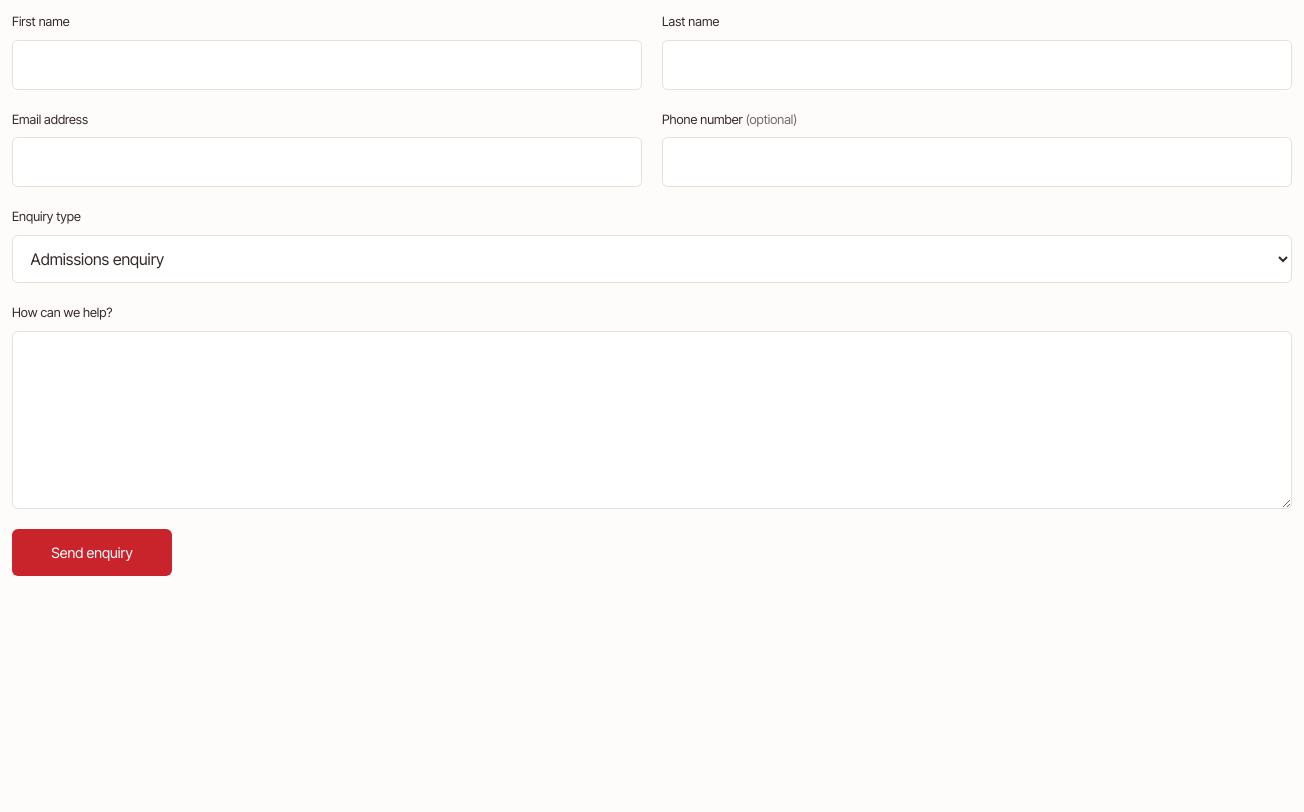
it: ContactForm › submits to the public API and displays the enquiry reference
The image size is (1304, 812).
Type "Temitope" into the field with id "contact-first-name".
click(327, 65); type("Temitope")  # box [12, 40, 642, 90]
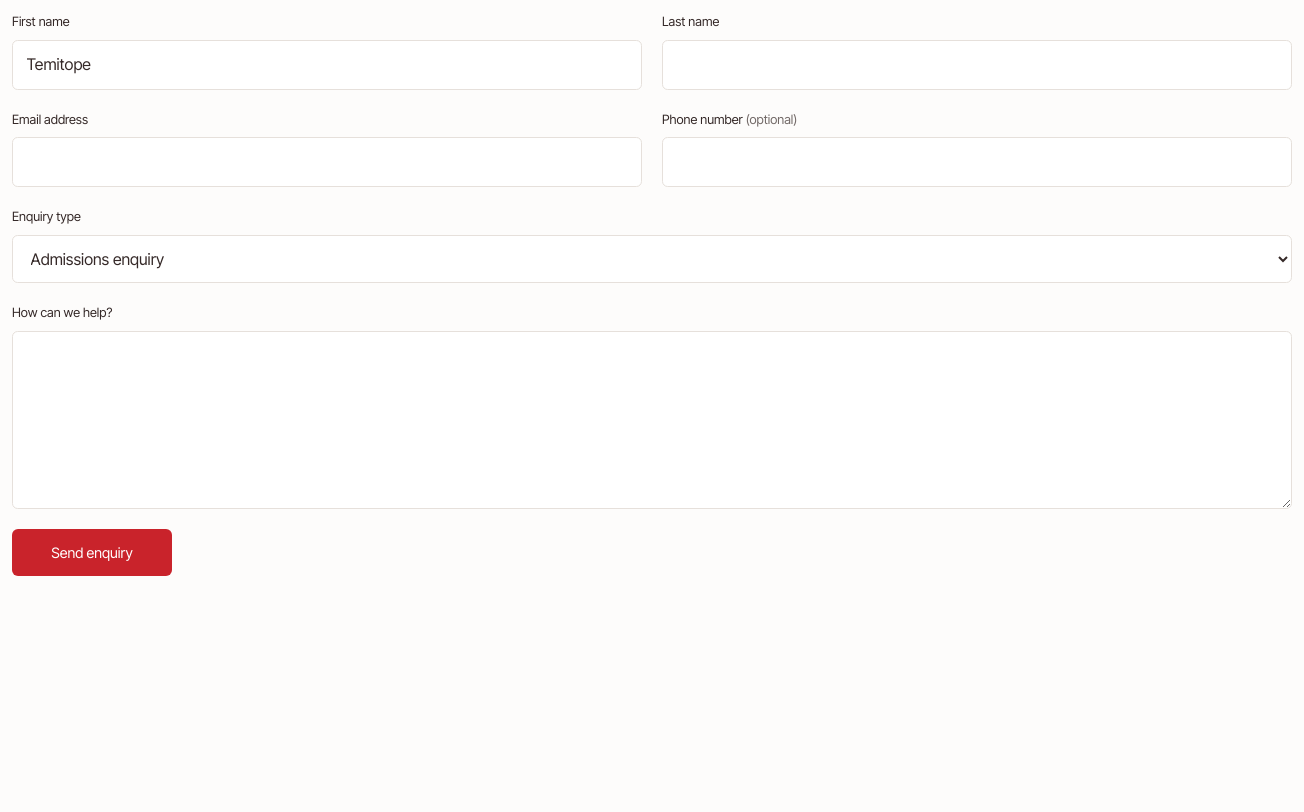
Type "Oyeyinka" into the field with id "contact-last-name".
click(977, 65); type("Oyeyinka")  # box [662, 40, 1292, 90]
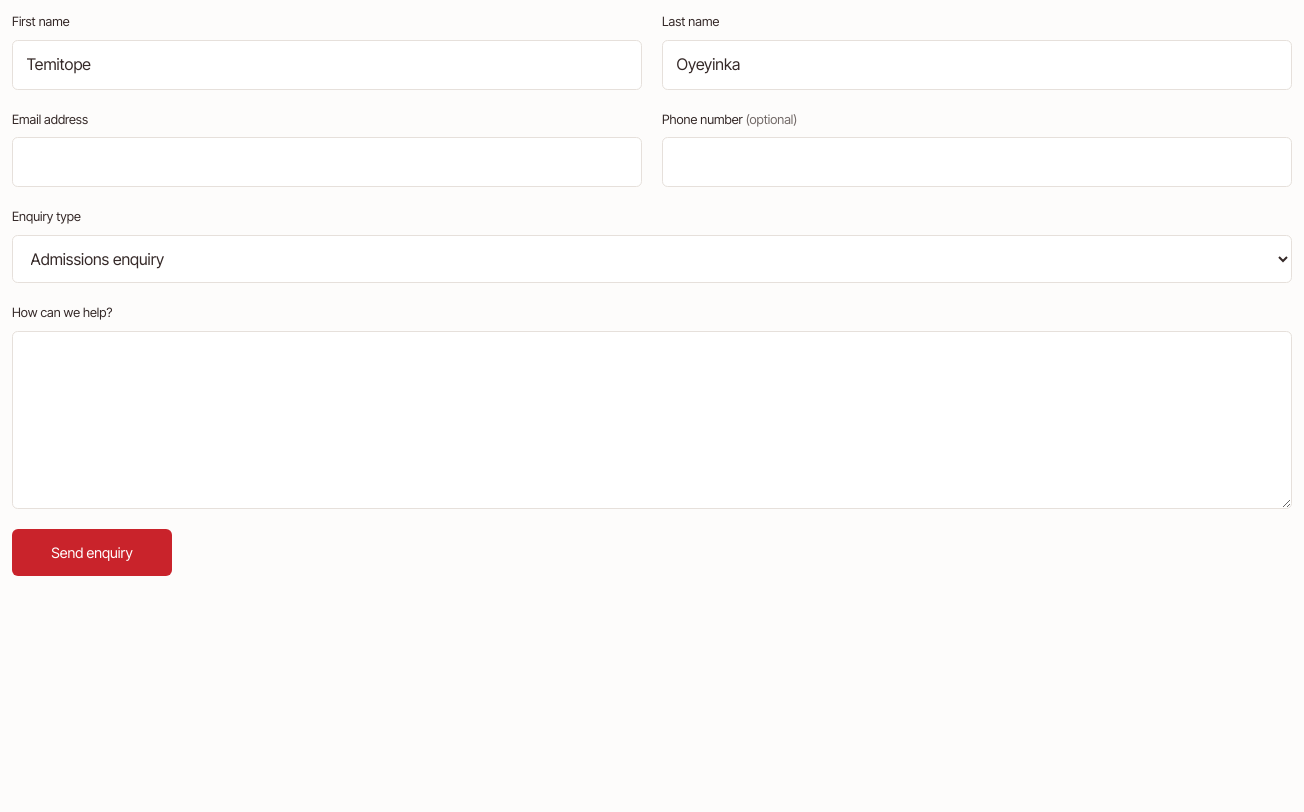
Type "temitope@example.com" into the field with id "contact-email".
click(327, 162); type("temitope@example.com")  # box [12, 137, 642, 187]
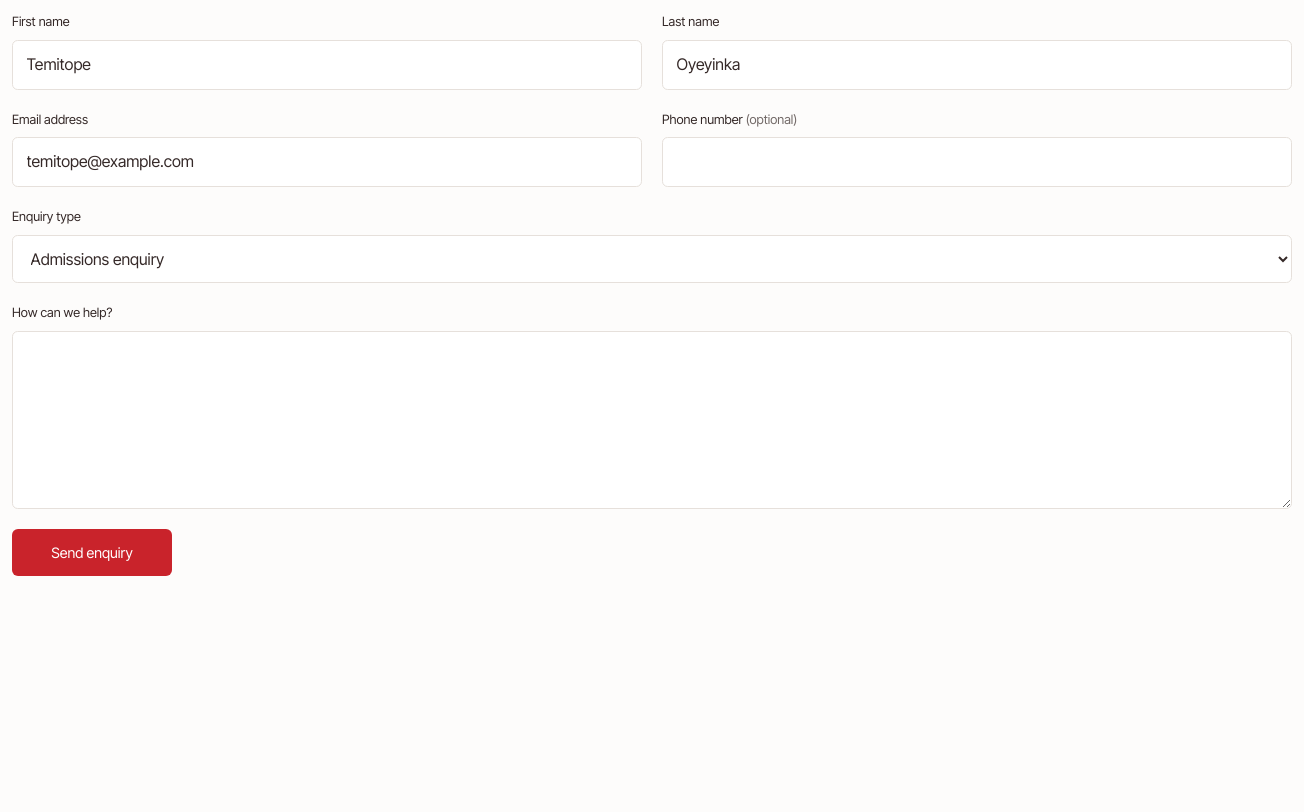
Type "I would like more information about Basic Nursing admissions." into the text box with id "contact-message".
click(652, 420); type("I would like more information about Basic Nursing admissions.")  # box [12, 331, 1292, 508]
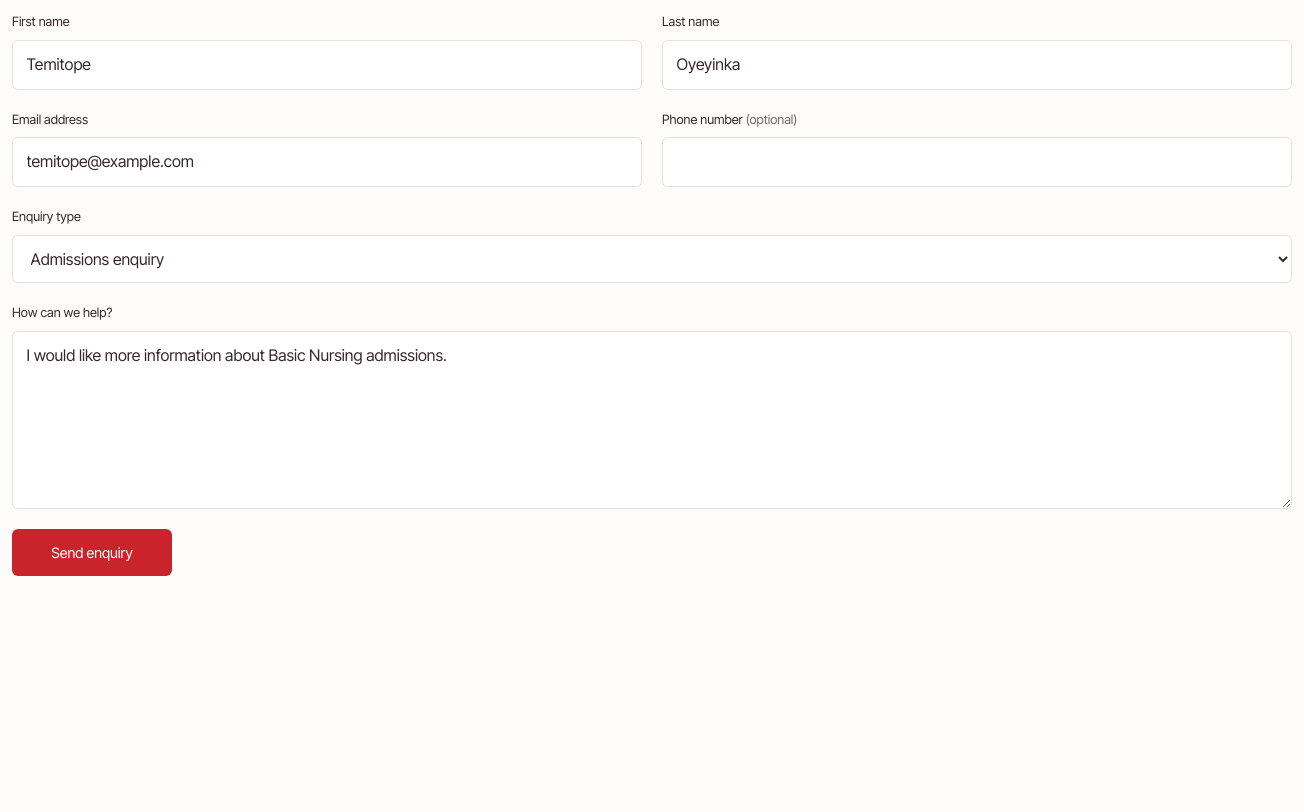
Submit the form
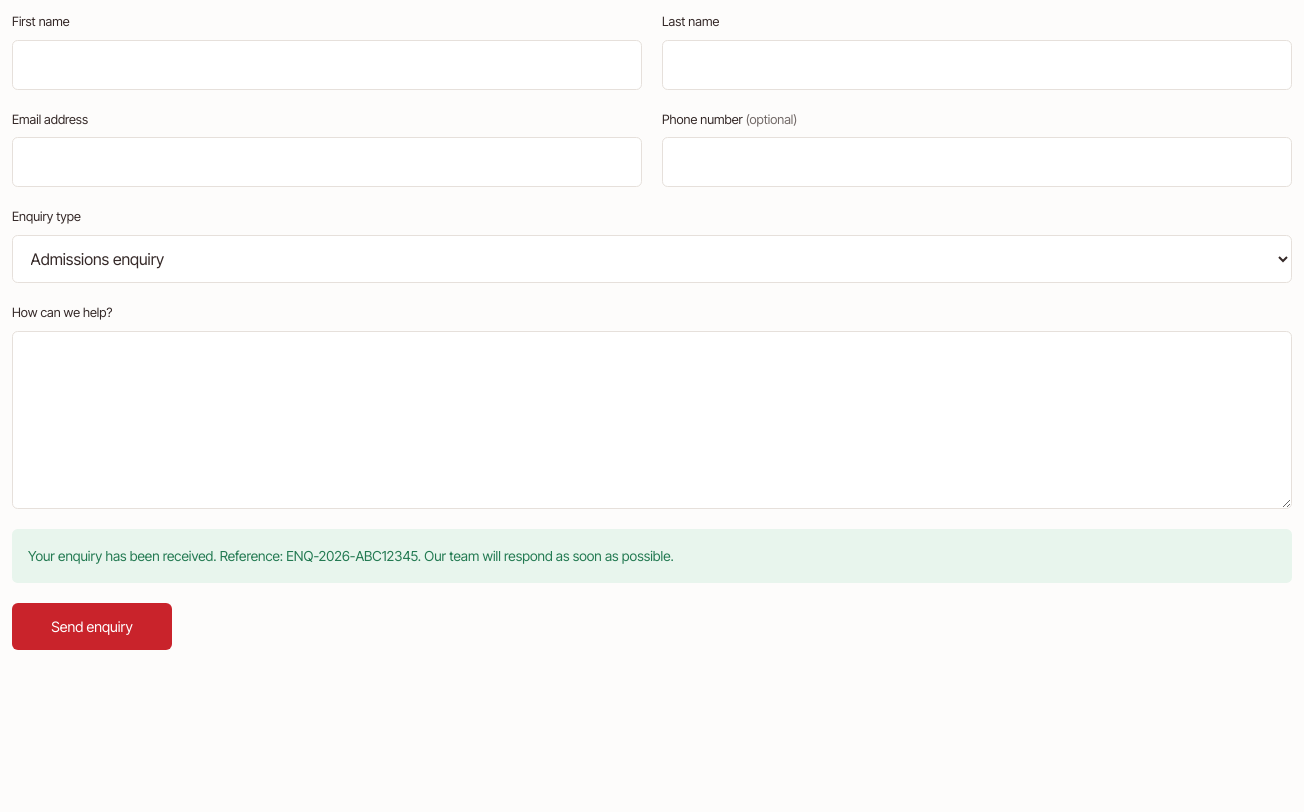
Check: the message with class "form-status--success" shows "ENQ-2026-ABC12345", box [28, 548, 674, 564]
